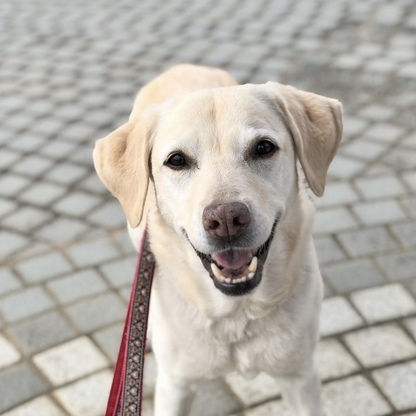labrado: (83, 61, 348, 416)
